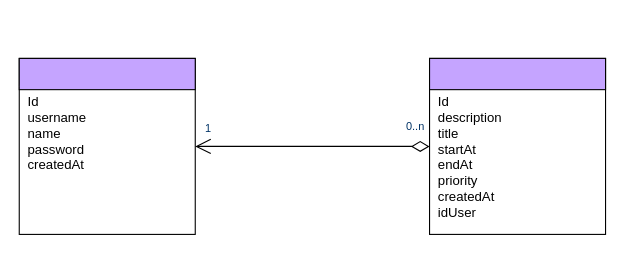
Some shapes in this 625 by 254 pixel diagram are drawn without their labels. The shapes that lost their labels are listed below. From the top down, each one's centre as x and y in pixels, then its label:
At (106,73): "tb_users".
At (517,73): "tb_tasks".
